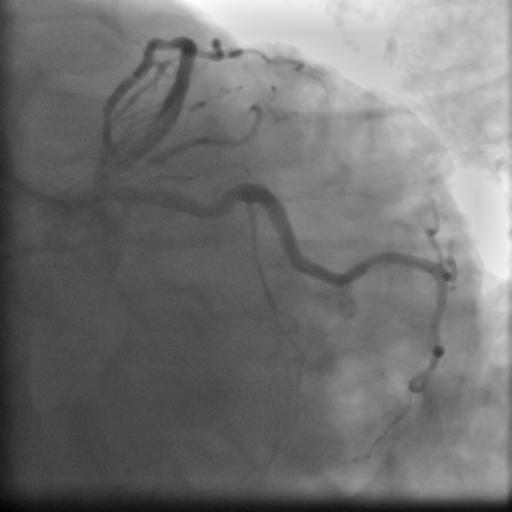Stenosis: (210, 188, 239, 211)
